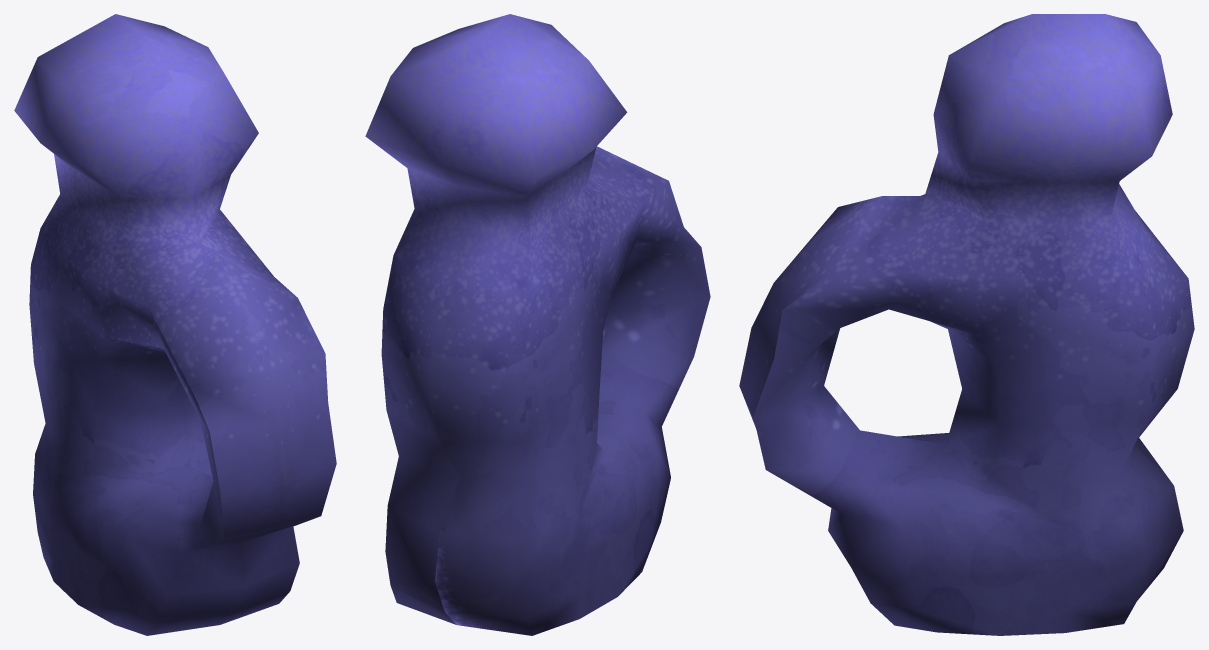
File: ronck_1.fbx
3 renders of one model, left to right at view 1: azimuth 30°, elevation 25°; view 2: azimuth 150°, elevation 25°; view 3: azimuth 270°, elevation 25°, orthographic. The views are drawn at different scales.
Parts seen in each view (by area): view 1: Plane.001; view 2: Plane.001; view 3: Plane.001.
Boxes of the visible parts, x1,y1,x2,y2 form: Plane.001: [14, 14, 336, 635]; Plane.001: [365, 14, 710, 635]; Plane.001: [739, 14, 1194, 635].
Bounding box in the file's own units: 48.87 × 134 × 95.69.
